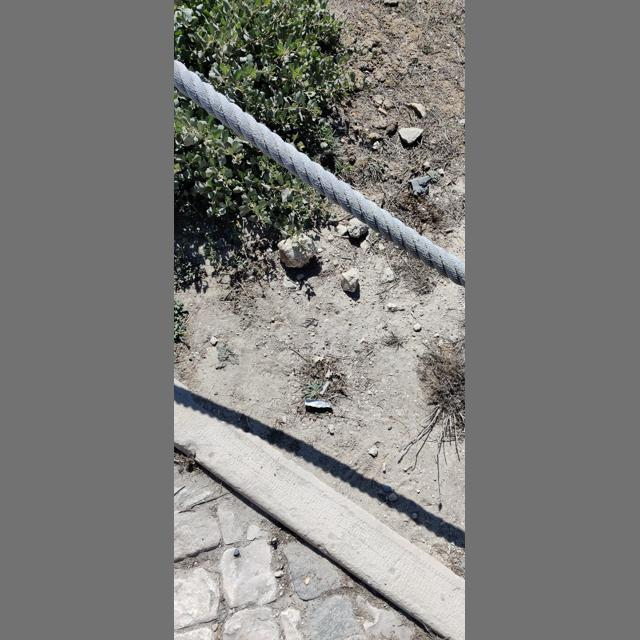litter: (305, 399, 333, 408), (378, 107, 388, 116)
